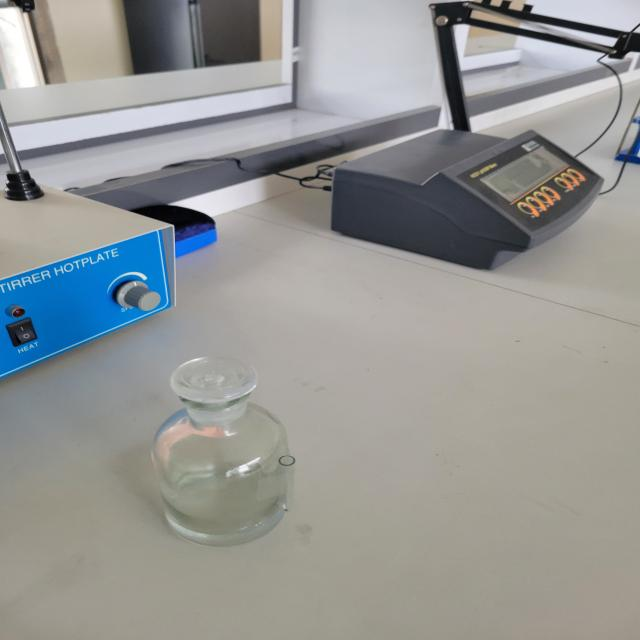Reagent_Bottle: (113, 322, 334, 576)
